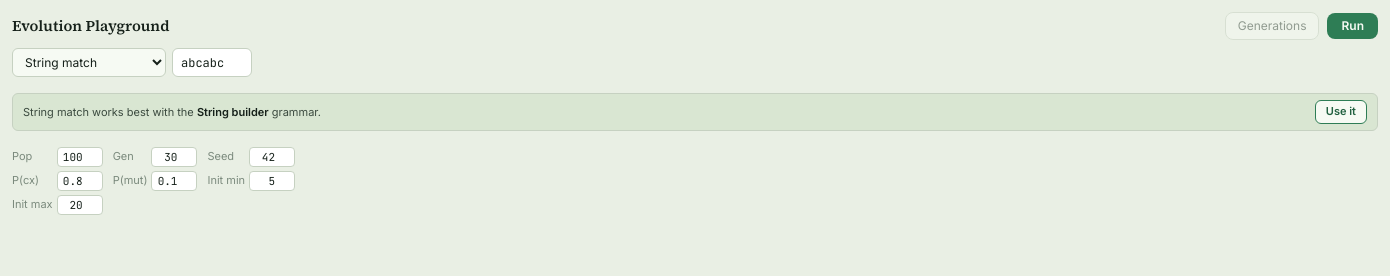
EvolutionPanel › shows stream errors
This screenshot has width=1390, height=276.
Click the button "Run": (1353, 26) [1328,13,1378,39]
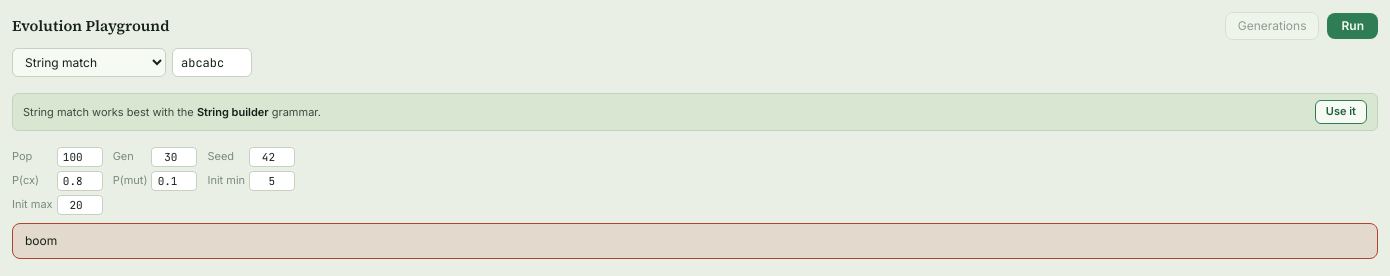
expect the text "boom" is shown: met, box [12,223,1378,259]
